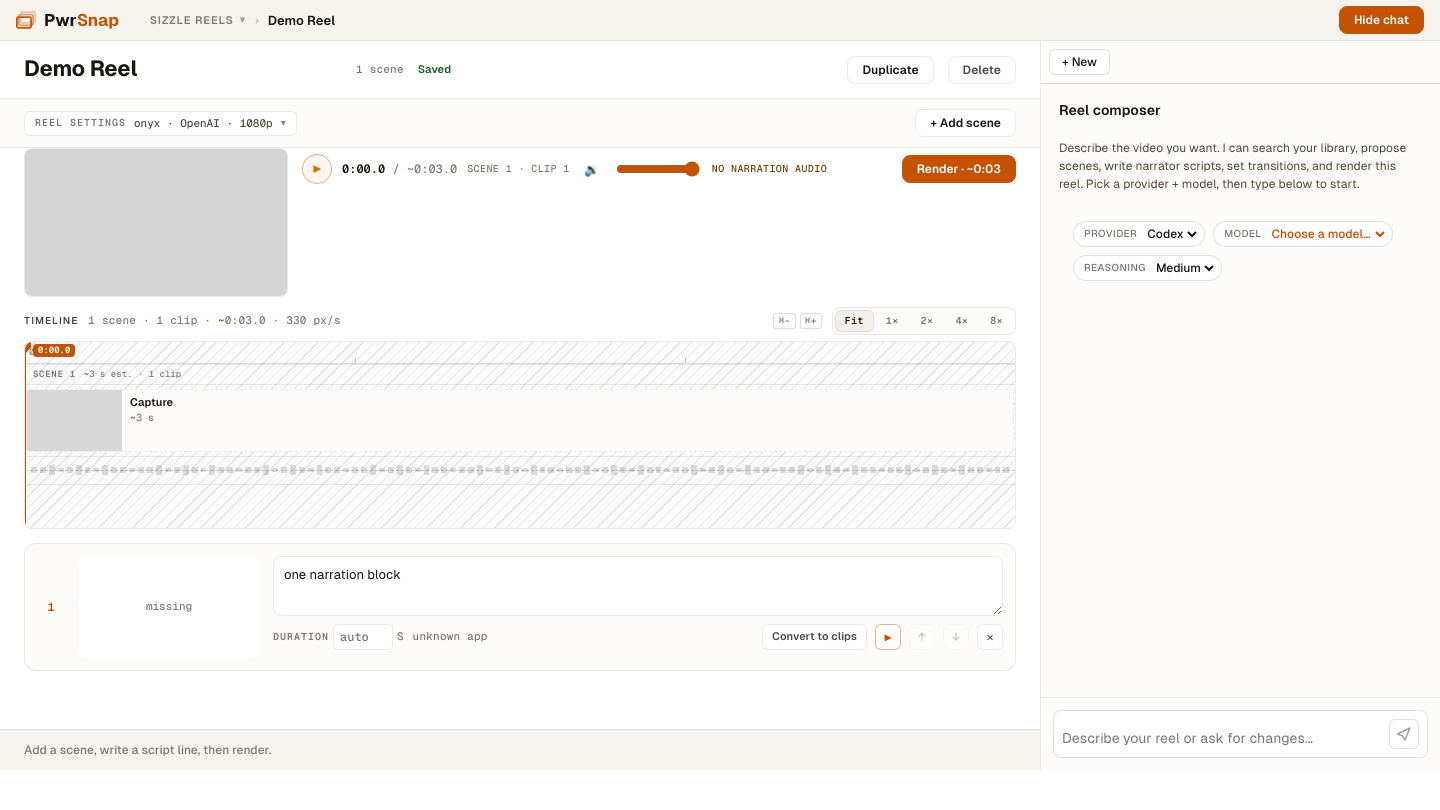
Test: SizzleApp sequence authoring › turns a simple scene into a visible grouped sequence
Expected: the text "Scene · one voiceover" is not shown
Click the button "Convert to clips" at (815, 637), box [762,624,867,650]
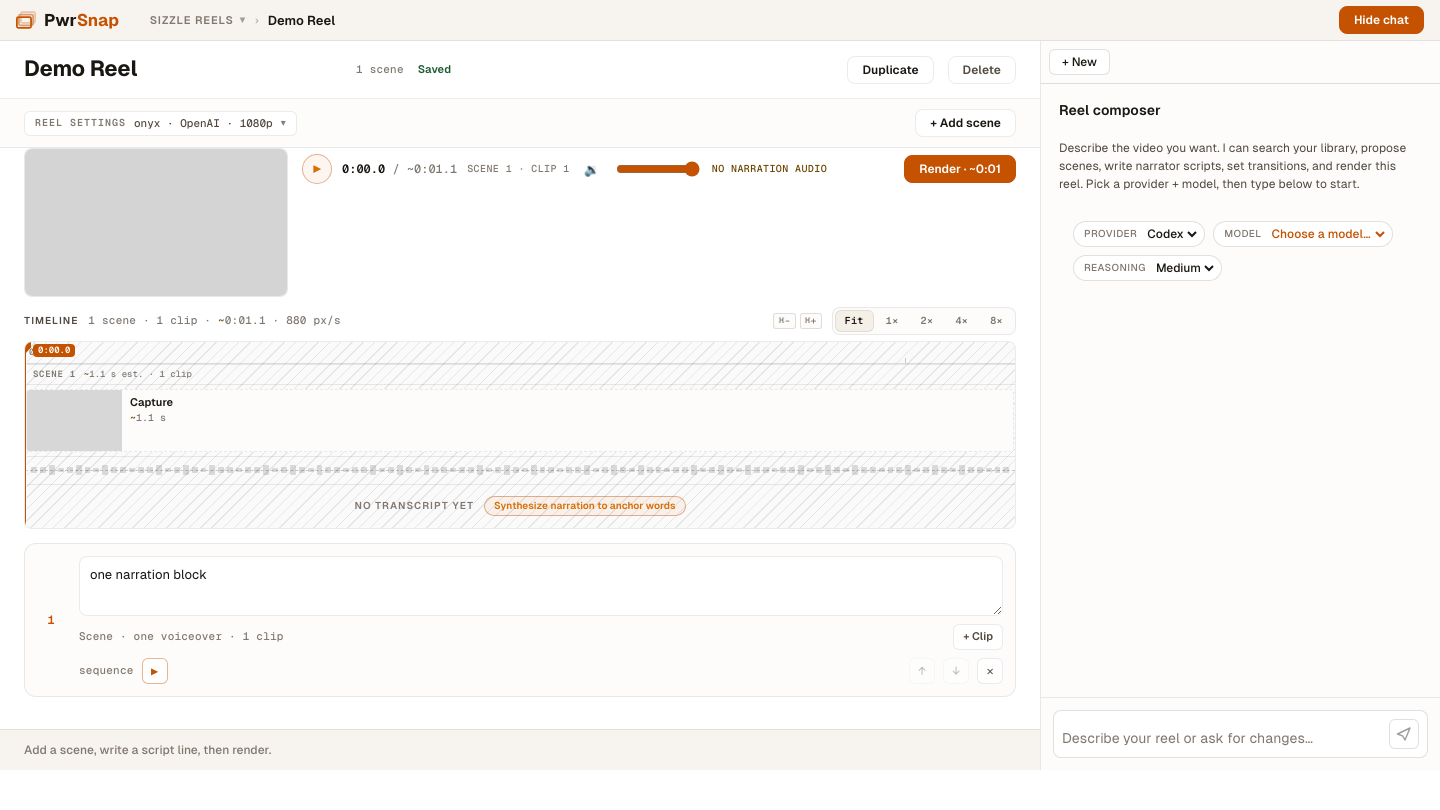
Expected: the text box with class "szl__scene-script" holds "one narration block", [79,556,1003,616]
Expected: the text "Scene · one voiceover" is shown, [79,629,243,643]
Expected: the button with test id "sizzle-timeline-synthesize-0" is shown, [484,496,686,516]
